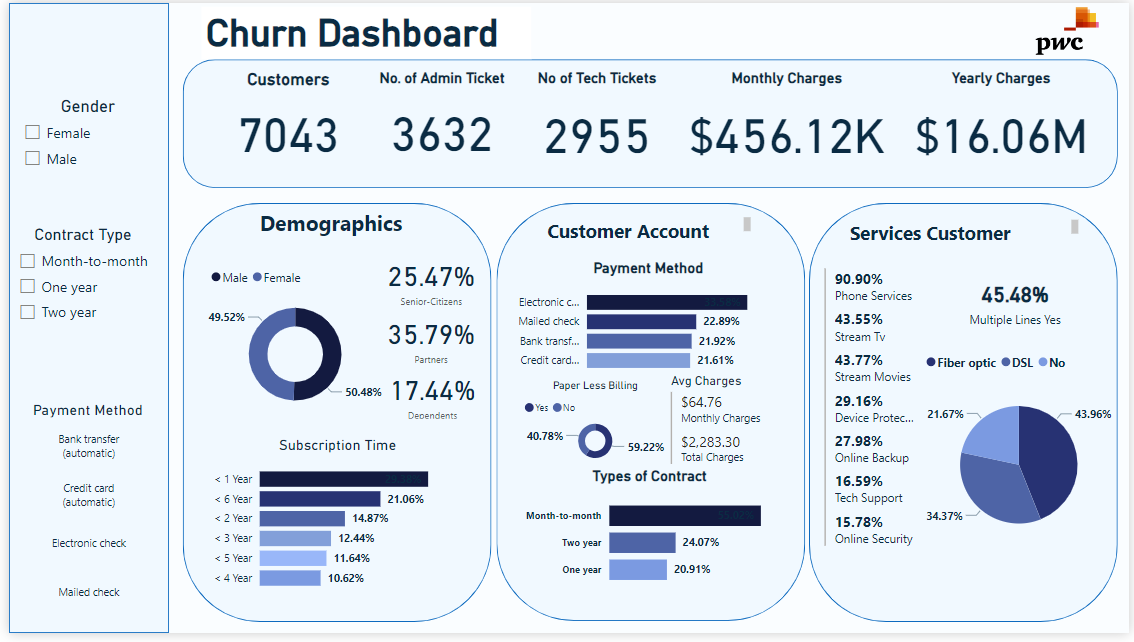

Layout of this report page (visuals, bound fields, positions):
{"tool":"powerbi","page":{"name":"Churn_Dashboard","canvas":[1280,720],"ordinal":2},"visuals":[{"type":"shape","box":[199.1,228.1,352.8,478.8],"z":0},{"type":"shape","box":[198.6,64.3,1068.6,147.1],"z":1000},{"type":"shape","box":[914.8,228.1,352.8,478.8],"z":2000},{"type":"shape","box":[0,0,182.9,720],"z":3000},{"type":"textbox","box":[220,4.3,377.1,60],"z":4000},{"type":"image","box":[1161.4,0,95.7,64.3],"z":5000},{"type":"card","title":"Customers","fields":{"Values":["CountNonNull(Churn.Customer_ID)"]},"box":[241.4,75.7,155.7,121.4],"z":6000},{"type":"card","title":"No. of Admin Ticket","fields":{"Values":["Sum(Churn.numAdminTickets)"]},"box":[417.6,75.7,155.7,121.4],"z":7000},{"type":"card","title":"No of Tech Tickets","fields":{"Values":["Sum(Churn.numTechTickets)"]},"box":[593.8,75.7,155.7,121.4],"z":8000},{"type":"card","title":"Monthly Charges","fields":{"Values":["Sum(Churn.MonthlyCharges)"]},"box":[770,75.6,237.8,121.1],"z":9000},{"type":"card","title":"Yearly Charges","fields":{"Values":["Sum(Churn.TotalCharges)"]},"box":[1028.2,75.6,210.4,121],"z":10000},{"type":"slicer","title":"Gender","fields":{"Values":["Churn.gender"]},"box":[6.3,107.1,168.9,89.5],"z":11000},{"type":"slicer","title":"Contract Type","fields":{"Values":["Churn.Contract"]},"box":[0,253.9,168.9,143.7],"z":12000},{"type":"slicer","title":"Payment Method","fields":{"Values":["Churn.PaymentMethod"]},"box":[6.3,454.9,168.9,250.8],"z":13000},{"type":"shape","box":[557,228.1,352.8,477.6],"z":14000},{"type":"donutChart","fields":{"Category":["Churn.gender"],"Y":["CountNonNull(Churn.gender)"]},"box":[225.6,292.5,203.1,187.5],"z":15000},{"type":"textbox","box":[281.4,230,187.1,50],"z":16000},{"type":"clusteredBarChart","title":"Subscription Time","fields":{"Y":["CountNonNull(Churn.Churn)"],"Category":["Churn.Loyalty"]},"box":[225.6,494,299.9,186.5],"z":17000},{"type":"card","fields":{"Values":["KPI_Churn.Senior-Citizens"]},"box":[423.1,282.5,120,68.8],"z":18000},{"type":"card","fields":{"Values":["KPI_Churn.Partners"]},"box":[423.1,349.4,120,66.9],"z":19000},{"type":"card","fields":{"Values":["KPI_Churn.Dependents"]},"box":[424.4,414.4,120,65.6],"z":20000},{"type":"textbox","box":[610,240,242.9,40],"z":21000},{"type":"clusteredBarChart","title":"Payment Method","fields":{"Category":["Churn.PaymentMethod"],"Y":["CountNonNull(Churn.PaymentMethod)"]},"box":[566,293,330,139],"z":22000},{"type":"donutChart","title":"Paper Less Billing","fields":{"Category":["Churn.PaperlessBilling"],"Y":["CountNonNull(Churn.PaperlessBilling)"]},"box":[584.1,430.6,171.8,100],"z":23000},{"type":"clusteredBarChart","title":"Types of Contract","fields":{"Category":["Churn.Contract"],"Y":["CountNonNull(Churn.Contract)"]},"box":[584.1,530.6,295.9,148.2],"z":24000},{"type":"multiRowCard","title":"Avg Charges","fields":{"Values":["Avg(Churn.MonthlyCharges)","Avg(Churn.TotalCharges)"]},"box":[751.1,423.3,144.4,112.2],"z":25000},{"type":"textbox","box":[955.7,242.9,271.4,40],"z":26000},{"type":"pieChart","fields":{"Category":["Churn.InternetService"],"Y":["CountNonNull(Churn.InternetService)"]},"box":[1043,390,223,246],"z":27000},{"type":"multiRowCard","fields":{"Values":["KPI_Churn.Phone Services","KPI_Churn.Stream Tv","KPI_Churn.Stream Movies","KPI_Churn.Device Protection","KPI_Churn.Online Backup","KPI_Churn.Tech Support","KPI_Churn.Online Security"]},"box":[927,298,116,338],"z":28000},{"type":"card","fields":{"Values":["KPI_Churn.Multiple Lines Yes"]},"box":[1043,298,214,85],"z":29000}]}

Visuals, with their boxes in screenshot pixels (x1, y1, x2, y2), scaled from the page's 1280x720 canvas onto the 1134x642 screenshot:
shape: l=176, t=203, r=489, b=630
shape: l=176, t=57, r=1123, b=188
shape: l=810, t=203, r=1123, b=630
shape: l=0, t=0, r=162, b=641
textbox: l=195, t=4, r=529, b=57
image: l=1029, t=0, r=1114, b=57
"Customers" card: l=214, t=67, r=352, b=176
"No. of Admin Ticket" card: l=370, t=67, r=508, b=176
"No of Tech Tickets" card: l=526, t=67, r=664, b=176
"Monthly Charges" card: l=682, t=67, r=893, b=175
"Yearly Charges" card: l=911, t=67, r=1097, b=175
"Gender" slicer: l=6, t=95, r=155, b=175
"Contract Type" slicer: l=0, t=226, r=150, b=355
"Payment Method" slicer: l=6, t=406, r=155, b=629
shape: l=493, t=203, r=806, b=629
donutChart - Churn.gender x CountNonNull(Churn.gender): l=200, t=261, r=380, b=428
textbox: l=249, t=205, r=415, b=250
"Subscription Time" clusteredBarChart: l=200, t=440, r=466, b=607
card - KPI_Churn.Senior-Citizens: l=375, t=252, r=481, b=313
card - KPI_Churn.Partners: l=375, t=312, r=481, b=371
card - KPI_Churn.Dependents: l=376, t=370, r=482, b=428
textbox: l=540, t=214, r=756, b=250
"Payment Method" clusteredBarChart: l=501, t=261, r=794, b=385
"Paper Less Billing" donutChart: l=517, t=384, r=670, b=473
"Types of Contract" clusteredBarChart: l=517, t=473, r=780, b=605
"Avg Charges" multiRowCard: l=665, t=377, r=793, b=477
textbox: l=847, t=217, r=1087, b=252
pieChart - Churn.InternetService x CountNonNull(Churn.InternetService): l=924, t=348, r=1122, b=567
multiRowCard - KPI_Churn.Phone Services x KPI_Churn.Stream Tv: l=821, t=266, r=924, b=567
card - KPI_Churn.Multiple Lines Yes: l=924, t=266, r=1114, b=342
